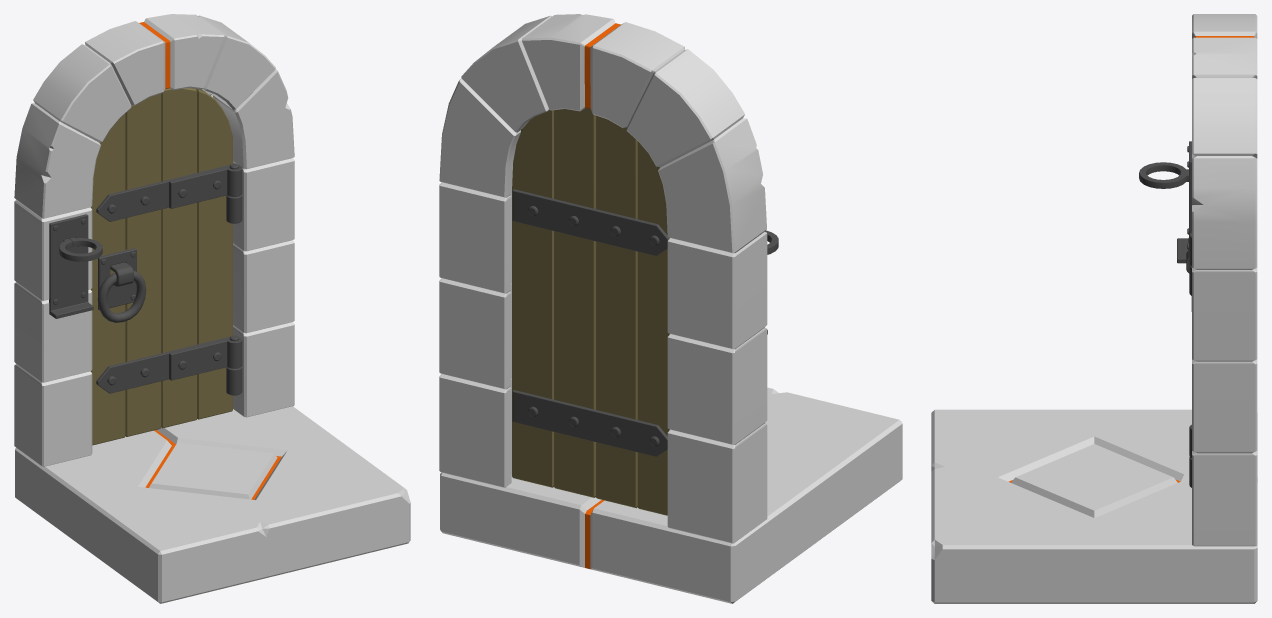
File: malaghar_door.fbx
The picture shows the model from 3 angles, left to right: view 1: azimuth 30°, elevation 25°; view 2: azimuth 150°, elevation 25°; view 3: azimuth 270°, elevation 25°; orthographic projection. The views are drawn at different scales.
Parts seen in each view (by area): view 1: pCube78, pCube77, pCube80, pCylinder47 (×2), pCube92, pCube88, pTorus2, pCylinder70; view 2: pCube78, pCube80, pCube77, pCylinder74 (×2); view 3: pCube77, pCube78, pCylinder70, pCube92.
Part boxes in pixels (x1,y1,x2,y2): pCube78: (14,14,294,466); pCube77: (15,406,410,603); pCube80: (90,88,232,445); pCylinder47 (×2): (96,164,242,393); pCube92: (49,214,93,318); pCube88: (98,248,136,310); pTorus2: (97,270,146,322); pCylinder70: (59,237,102,261); pCube78: (439,14,767,543); pCube80: (512,108,669,515); pCube77: (440,387,902,603); pCylinder74 (×2): (512,189,669,456); pCube77: (931,409,1257,603); pCube78: (1192,14,1257,546); pCylinder70: (1139,162,1188,188); pCube92: (1177,141,1191,263).
Size of the model in its own units: 100 by 170 by 100.
